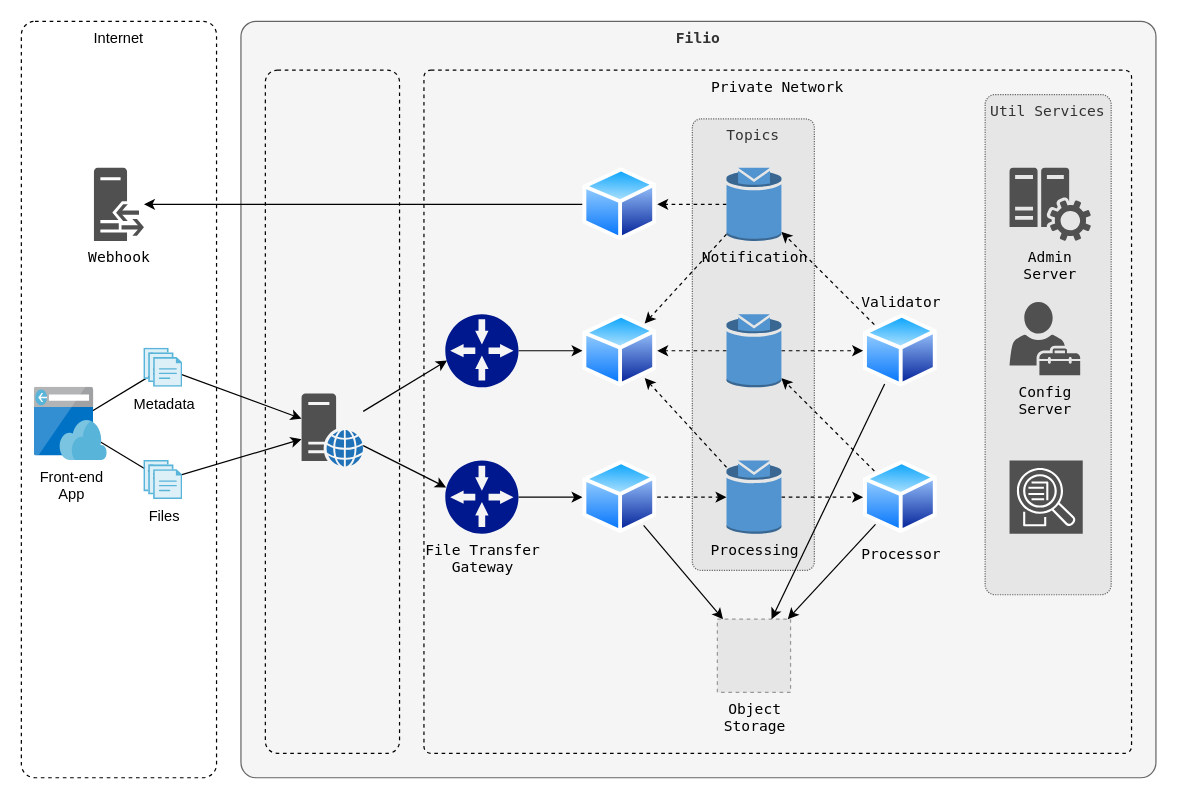
Image size: 1177x799. Some labels were removed from this diagram. Grey dashed boxes stand in for pictures. Each missing label, with the box of its shape:
File Manager: (582, 460, 657, 533)
Metadata Gateway: (445, 314, 518, 387)
Notificator: (582, 167, 657, 240)
Order Manager: (582, 314, 657, 387)
Public Network: (264, 69, 400, 753)
Service Discovery: (1008, 459, 1083, 534)
Validation: (725, 313, 781, 387)
Web Server & Reverse Proxy: (301, 393, 363, 466)
